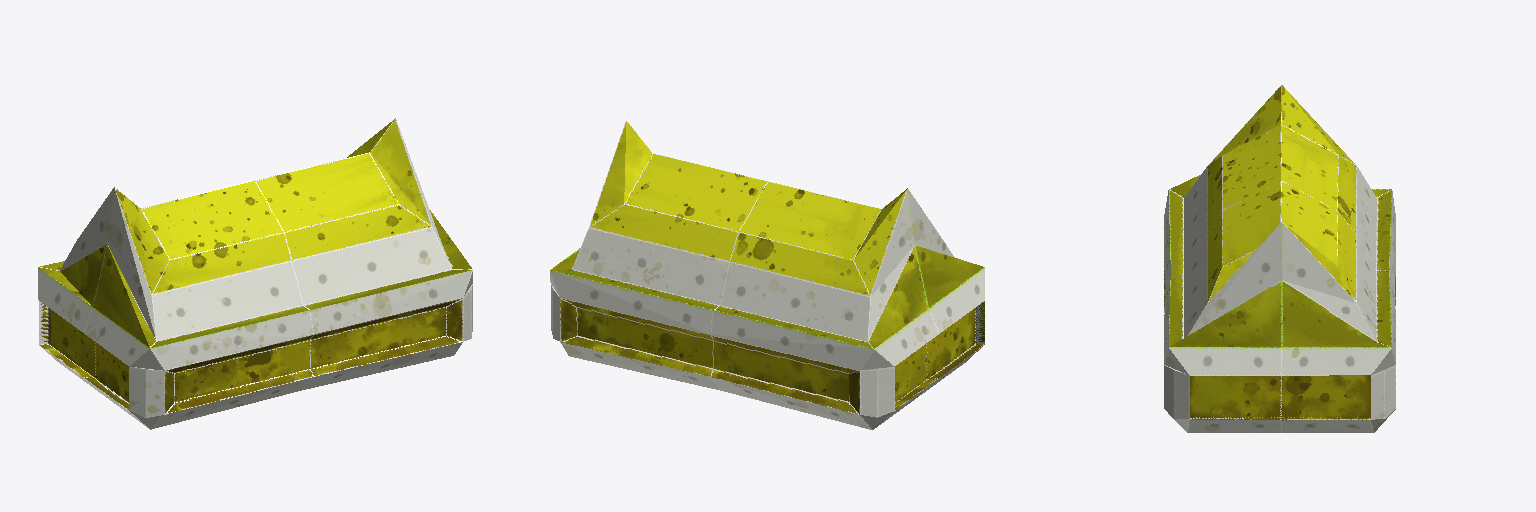
The picture shows the model from 3 angles: view 1: azimuth 30°, elevation 25°; view 2: azimuth 150°, elevation 25°; view 3: azimuth 270°, elevation 25°; orthographic projection.
Parts seen in each view (by area): view 1: Box002; view 2: Box002; view 3: Box002.
Part boxes in pixels (x1,y1,x2,y2): Box002: (38,118,472,429); Box002: (550,120,984,429); Box002: (1164,85,1395,432).
Bounding box in the file's own units: 53.31 × 30.43 × 31.17.
1 materials, 1 textured.